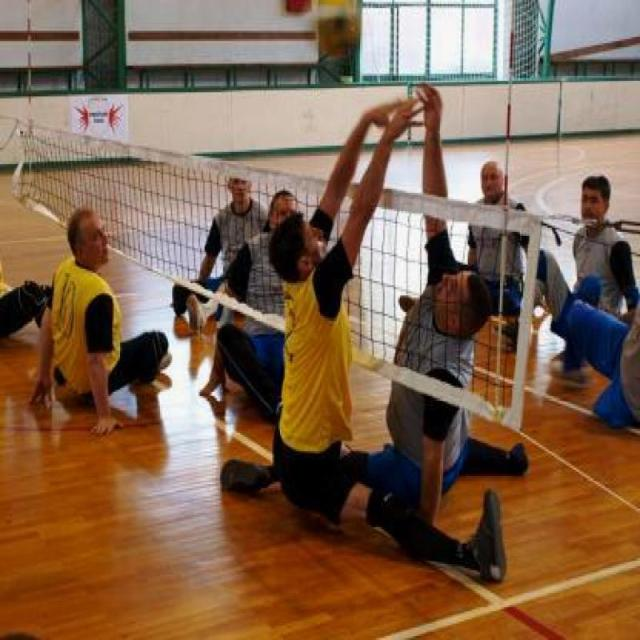volleyball: (308, 0, 366, 59)
